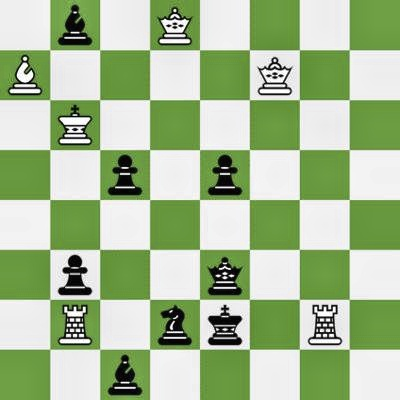black-bishop: (50, 0, 100, 50), (100, 350, 150, 400)
black-king: (200, 300, 250, 350)
black-knight: (150, 300, 200, 350)
black-pawn: (100, 150, 150, 200), (200, 150, 250, 200), (50, 250, 100, 300)
black-queen: (200, 250, 250, 300)
white-bishop: (0, 50, 50, 100)
white-king: (50, 100, 100, 150)
white-queen: (150, 0, 200, 50), (250, 50, 300, 100)
white-rook: (50, 300, 100, 350), (300, 300, 350, 350)
